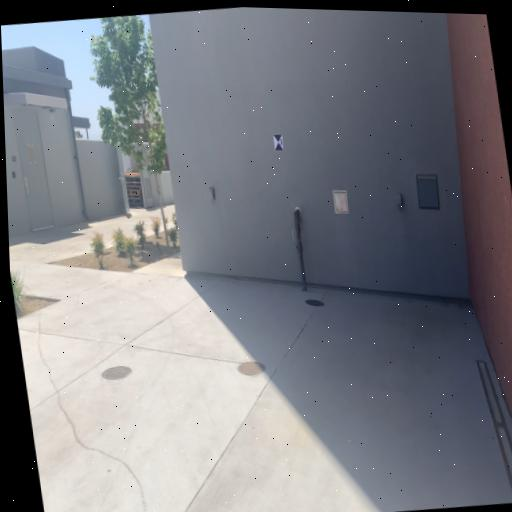target3: (273, 134, 284, 153)
